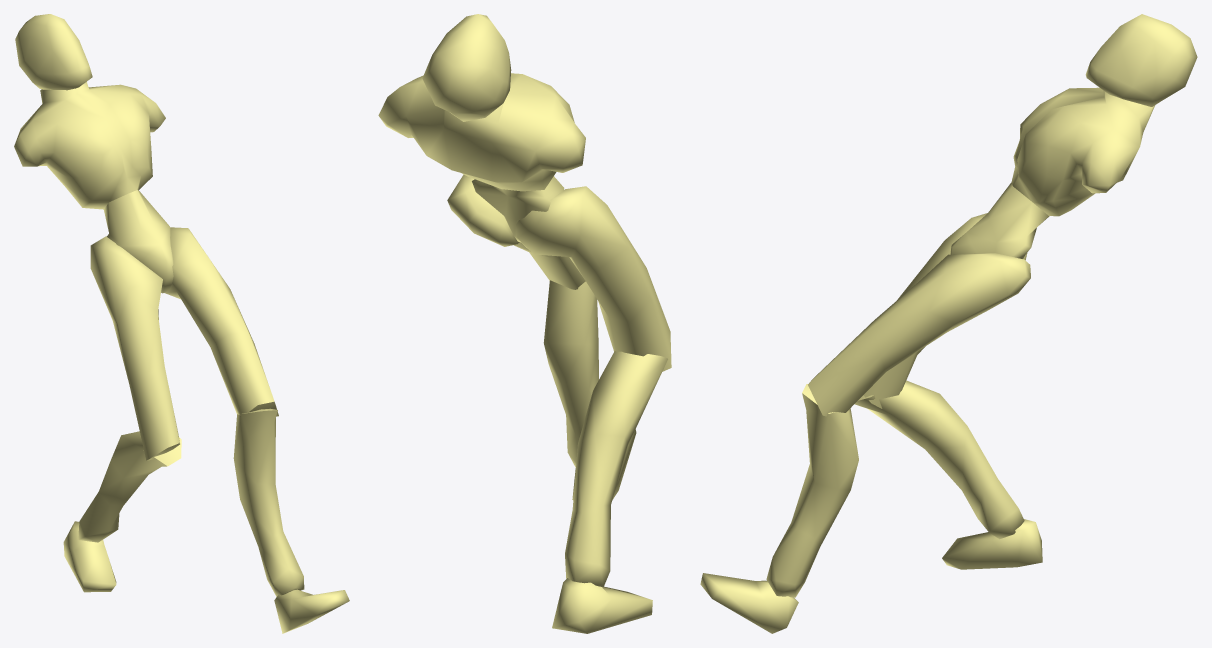
File: filth21.obj
3 views of the same model, side by side, from view 1: azimuth 30°, elevation 25°; view 2: azimuth 150°, elevation 25°; view 3: azimuth 270°, elevation 25° (orthographic). The views are drawn at different scales.
Parts seen in each view (by area): view 1: Melee_Husk; view 2: Melee_Husk; view 3: Melee_Husk.
Part boxes in pixels (x1,y1,x2,y2): Melee_Husk: (14, 14, 349, 633); Melee_Husk: (378, 14, 671, 633); Melee_Husk: (700, 14, 1197, 633).
Size of the model in its own units: 22.88 by 69.29 by 54.09.
